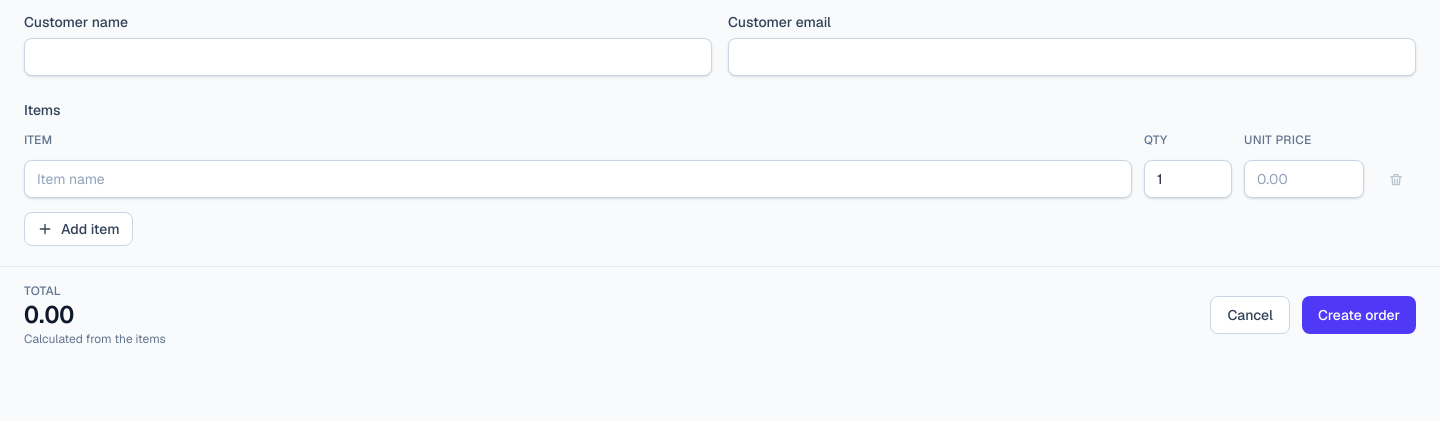
Test: OrderForm › shows the server's validation message for a 400
Type "Ann Lee" into the field labelled "Customer name" at (368, 57), box [24, 38, 712, 76]
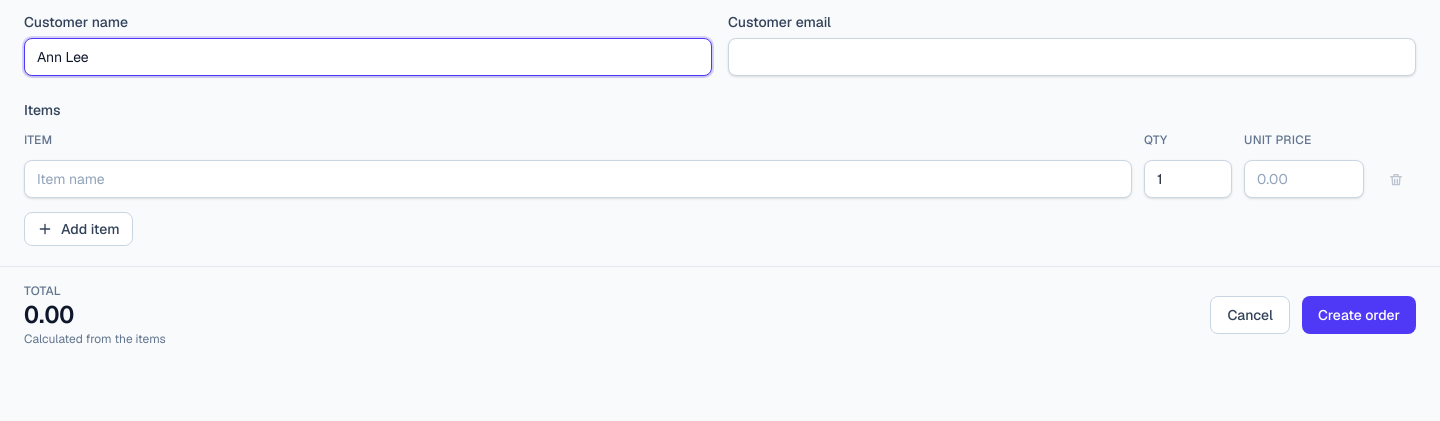
Type "ann@example.com" into the field labelled "Customer email" at (1072, 57), box [728, 38, 1416, 76]
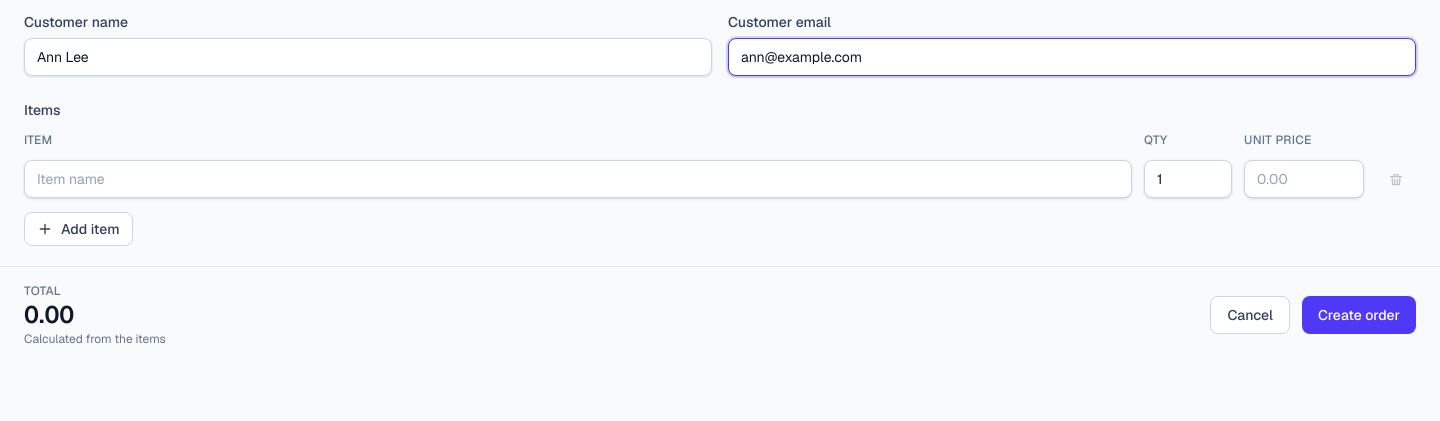
Type "Mouse" into the field named "Item 1 name" at (578, 179), box [24, 160, 1132, 198]
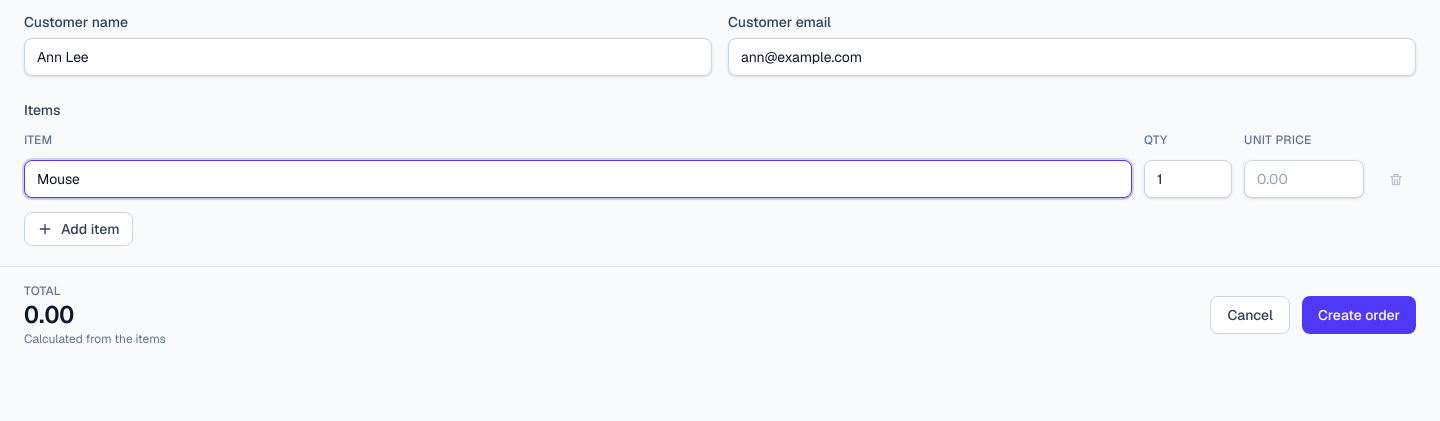
Replace the text in the number field named "Item 1 quantity" with "2" at (1188, 179), box [1144, 160, 1232, 198]
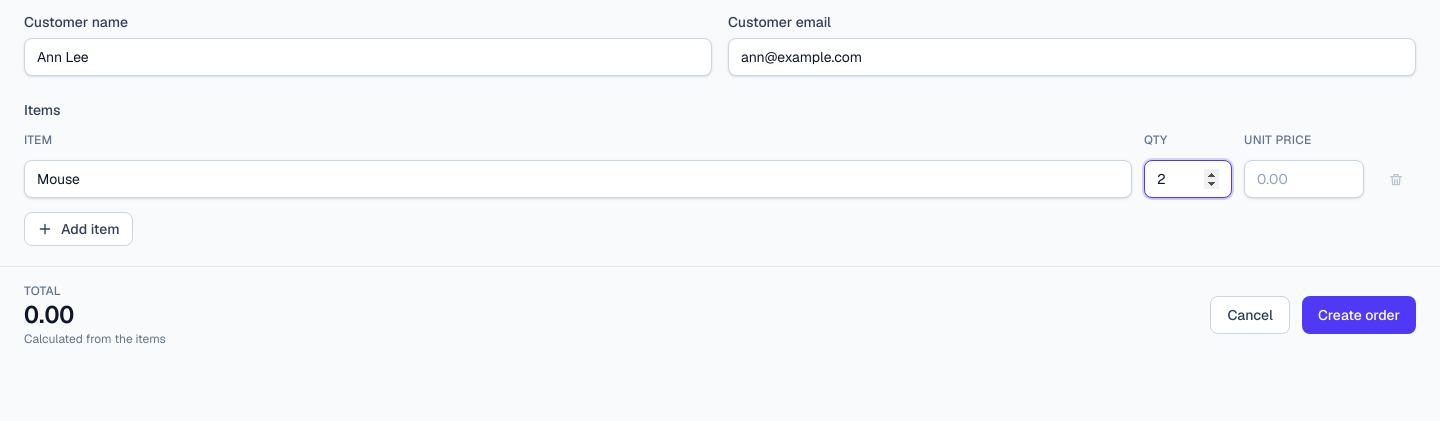
Type "12.50" into the field named "Item 1 unit price" at (1304, 179), box [1244, 160, 1364, 198]
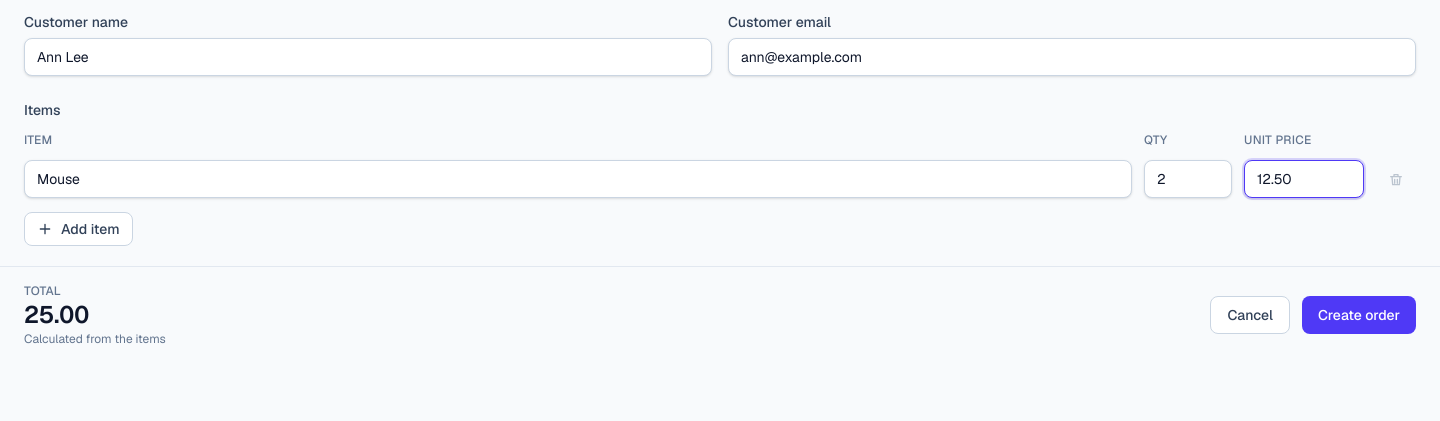
Click the button "Create order" at (1359, 315), box [1302, 296, 1416, 334]
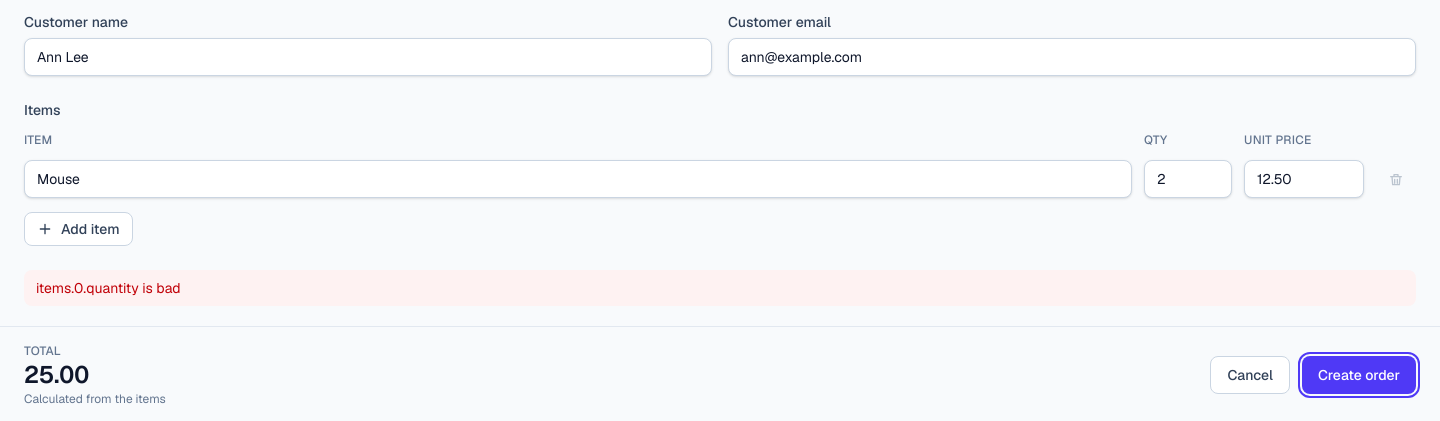
Now the text "items.0.quantity is bad" is shown, box [24, 270, 1416, 306]
